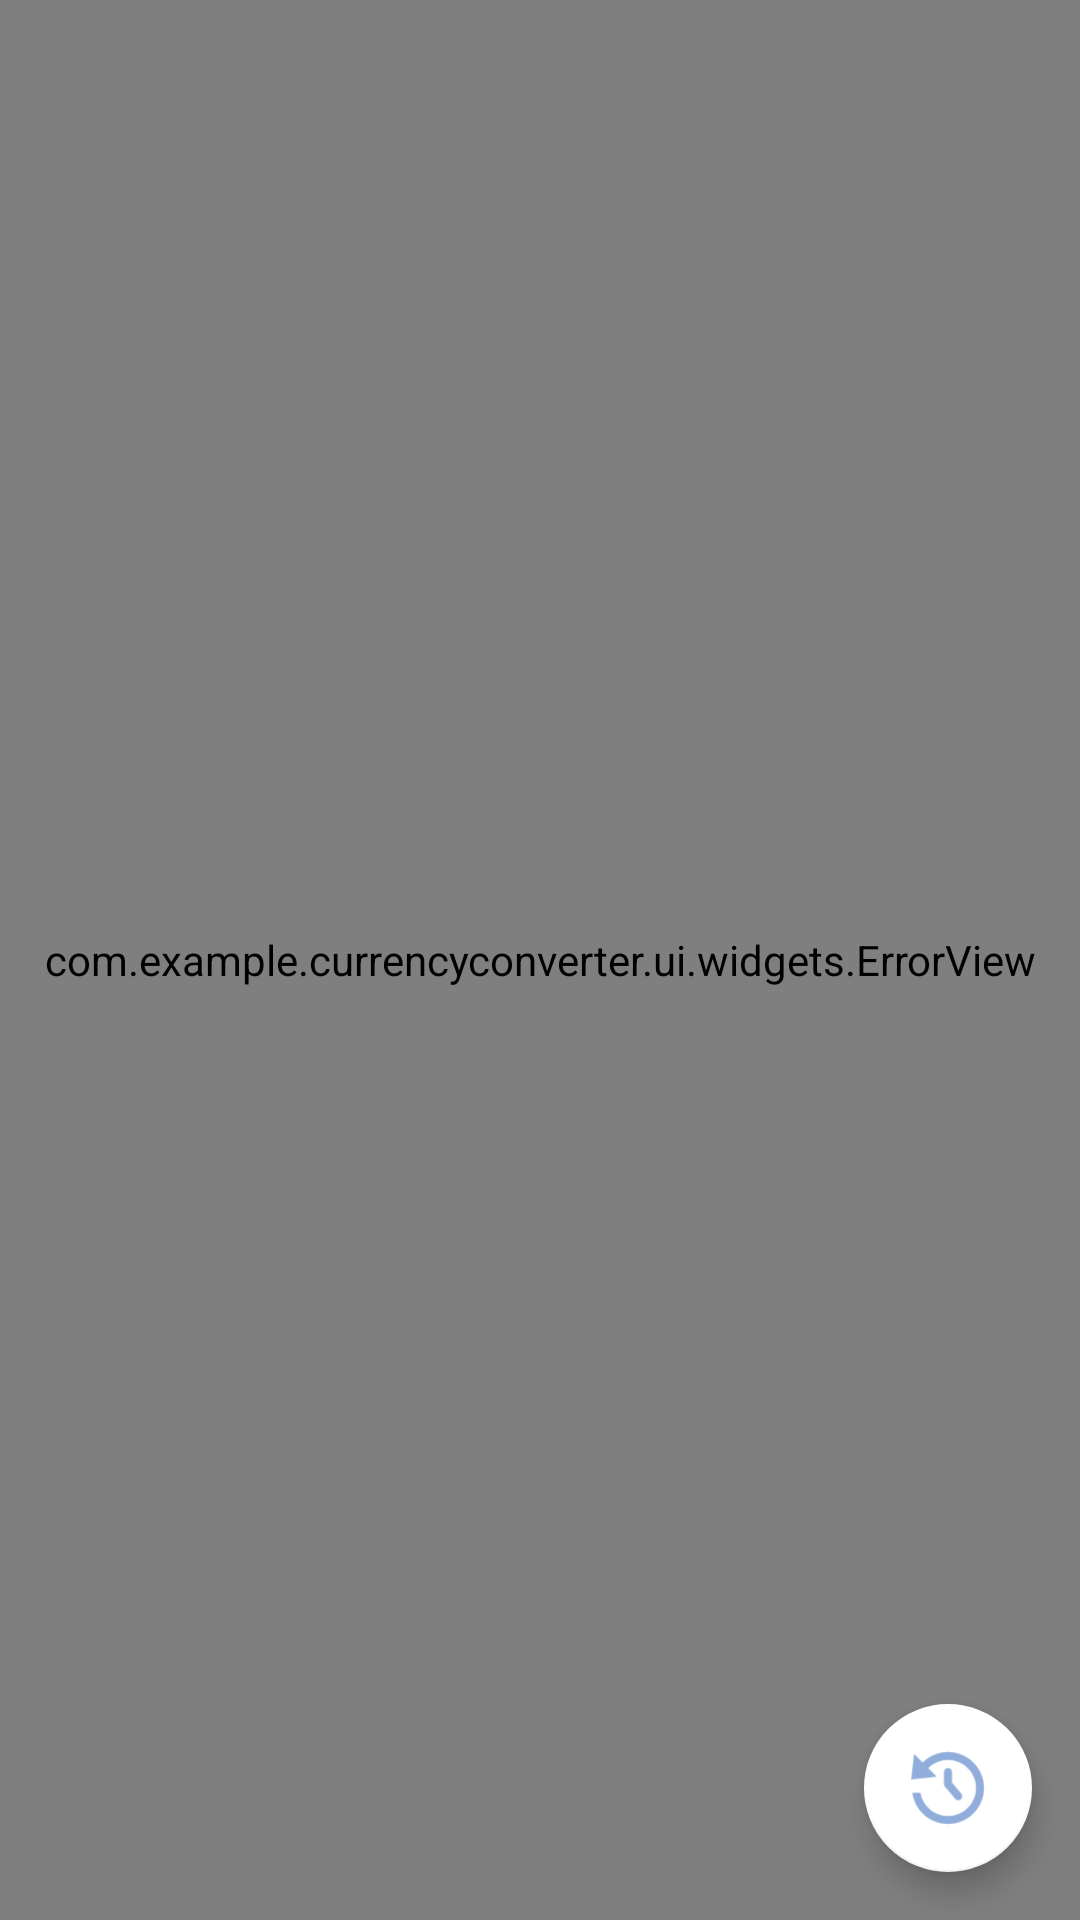

Where icons sit on this 1080*1920 app screen, as (x1, y1, x2, y2):
transaction history: (864, 1704, 1032, 1872)
